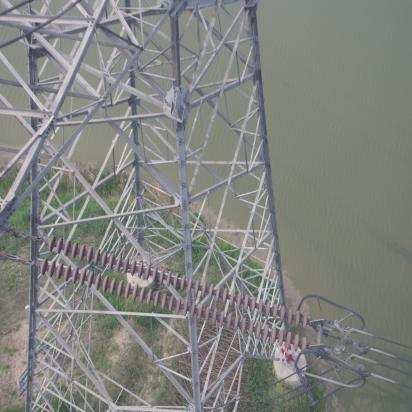insulator: (21, 232, 316, 354)
